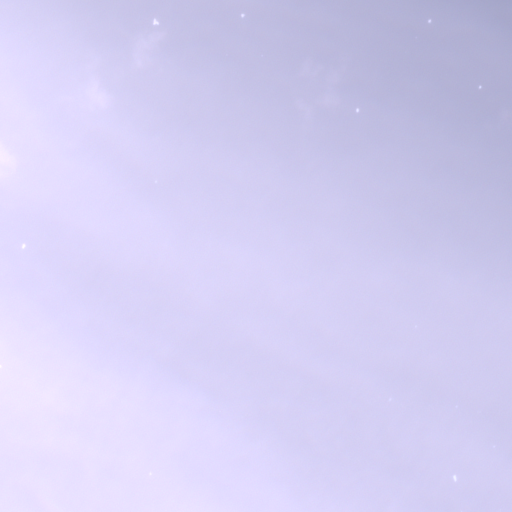Iceberg: (153, 19, 158, 24), (453, 475, 455, 480), (22, 244, 24, 248), (428, 19, 430, 22), (241, 14, 243, 16), (356, 109, 358, 111), (479, 86, 480, 88)
